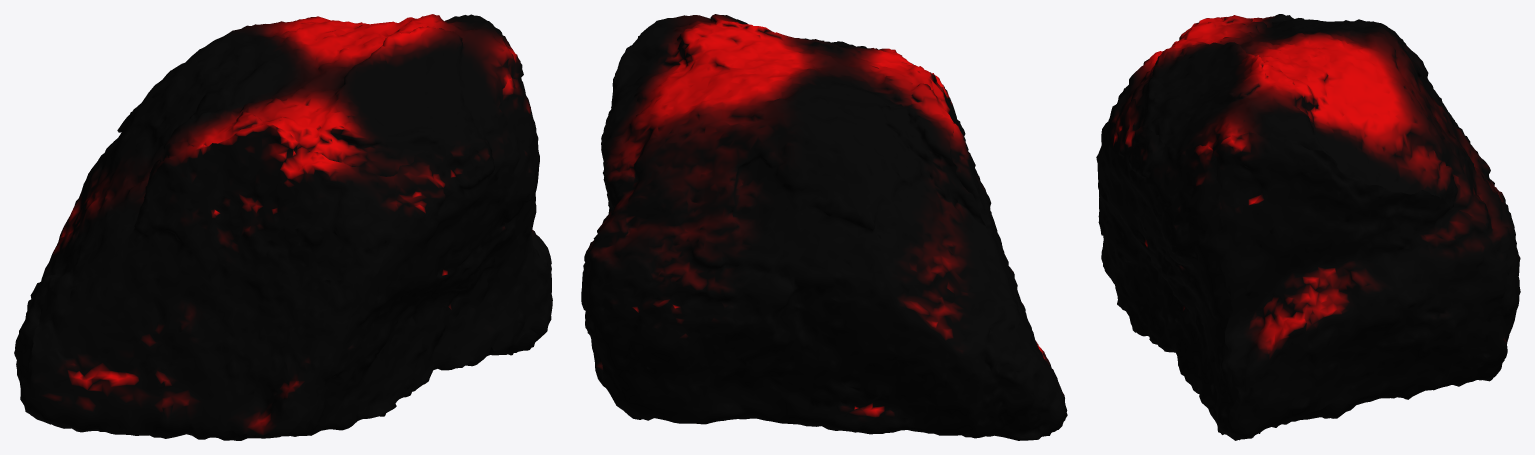
Rendered from SM_BoulderMossy_02.fbx.
The picture shows the model from 3 angles, left to right: view 1: azimuth 30°, elevation 25°; view 2: azimuth 150°, elevation 25°; view 3: azimuth 270°, elevation 25°; orthographic projection. The views are drawn at different scales.
Visible parts, largest first — view 1: SM_BoulderMossy_02; view 2: SM_BoulderMossy_02; view 3: SM_BoulderMossy_02.
Part boxes in pixels (left/top/right/bottom): SM_BoulderMossy_02: left=14, top=14, right=552, bottom=440; SM_BoulderMossy_02: left=581, top=14, right=1067, bottom=440; SM_BoulderMossy_02: left=1096, top=14, right=1520, bottom=440.
Bounding box in the file's own units: 222 × 169 × 143.
